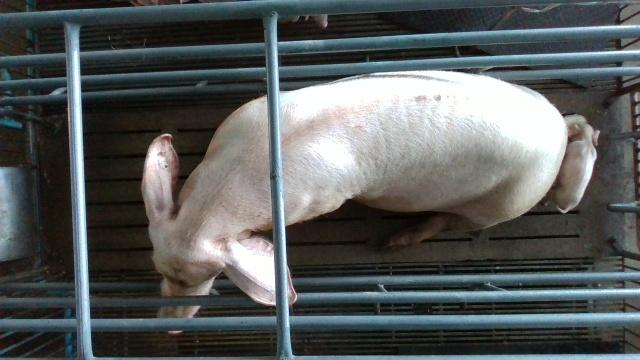piglet: (550, 124, 599, 214)
sow-sit: (141, 71, 570, 333)
